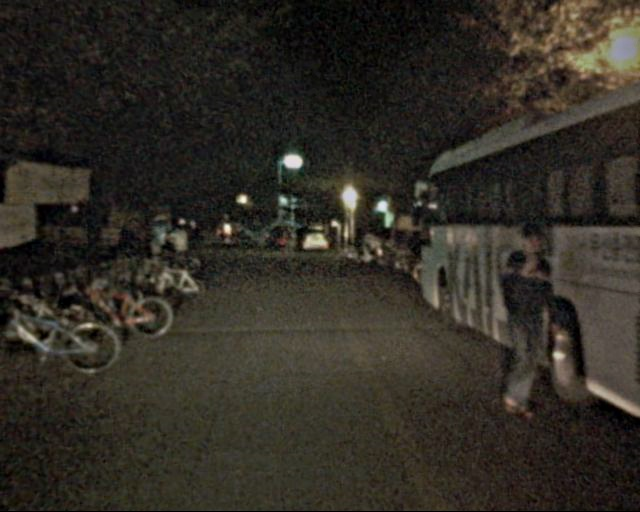person: (483, 214, 564, 429), (163, 220, 189, 284)
